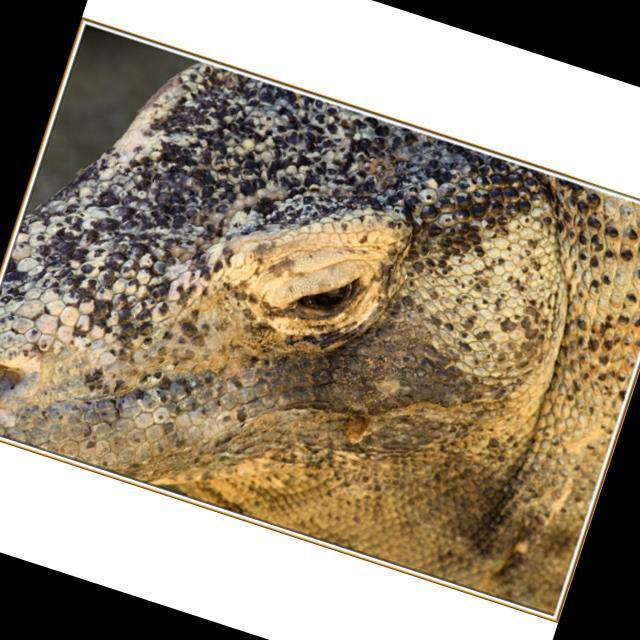KomodoDragon: (0, 25, 640, 616)
